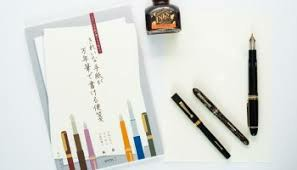pen: (170, 95, 230, 159), (196, 90, 246, 145), (243, 32, 262, 135)
